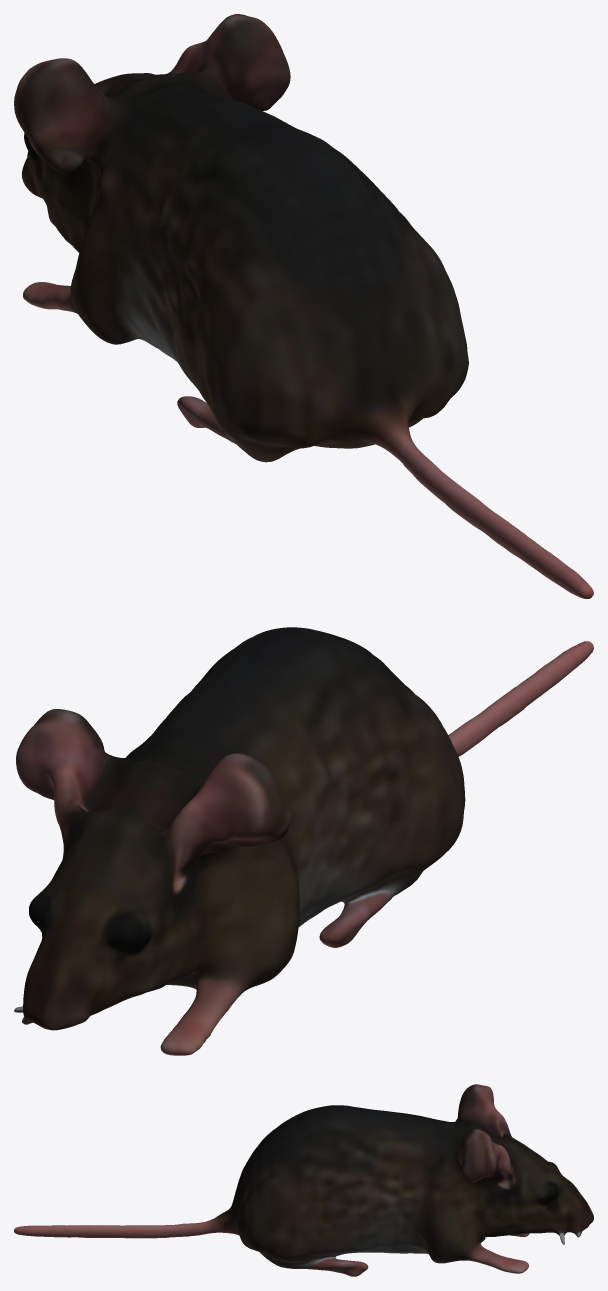
The model's file is fdb51eb6d6ee_lying_field_mouse__.fbx.
3 views of the same model, one above another, from view 1: azimuth 30°, elevation 25°; view 2: azimuth 150°, elevation 25°; view 3: azimuth 270°, elevation 25° (orthographic). The views are drawn at different scales.
Parts seen in each view (by area): view 1: high_poly; view 2: high_poly; view 3: high_poly.
Part boxes in pixels (left/top/right/bottom): high_poly: left=14, top=14, right=593, bottom=598; high_poly: left=14, top=627, right=593, bottom=1055; high_poly: left=14, top=1084, right=593, bottom=1276.
Bounding box in the file's own units: 26.91 × 28.61 × 100.
